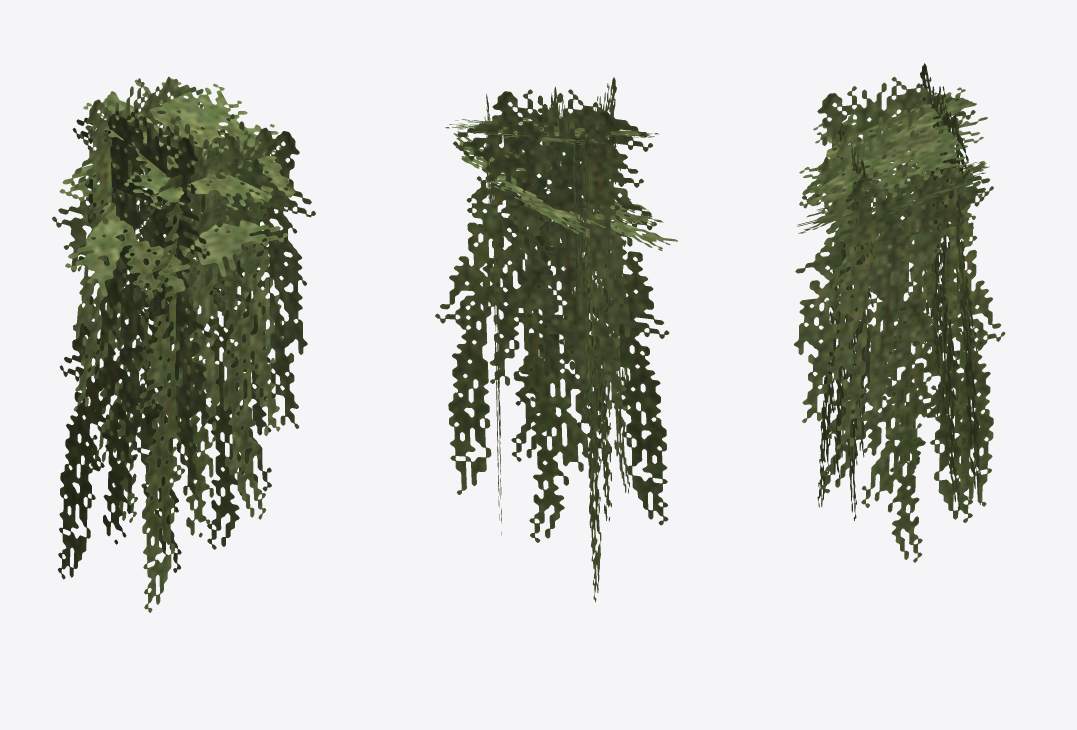
Rendered from willow_leaves_4.obj.
3 views of the same model, side by side, from view 1: azimuth 30°, elevation 25°; view 2: azimuth 150°, elevation 25°; view 3: azimuth 270°, elevation 25° (orthographic). The views are drawn at different scales.
Parts seen in each view (by area): view 1: east, north, south, west, top, bottom; view 2: south, north, east, bottom, top, west; view 3: west, east, south, top, north, bottom.
Part boxes in pixels (x1,y1,x2,y2): east: [58, 108, 211, 579]; north: [135, 127, 284, 612]; south: [52, 76, 289, 522]; west: [136, 114, 315, 549]; top: [83, 78, 295, 210]; bottom: [59, 127, 288, 298]; south: [435, 86, 643, 542]; north: [476, 89, 669, 525]; east: [576, 77, 629, 602]; bottom: [453, 131, 677, 250]; top: [445, 118, 658, 144]; west: [484, 93, 501, 535]; west: [825, 163, 1005, 562]; east: [794, 77, 977, 522]; south: [799, 63, 985, 510]; top: [799, 87, 987, 205]; north: [817, 122, 874, 520]; bottom: [797, 161, 989, 233].
Size of the model in its own units: 1.84 by 4.13 by 1.85.
